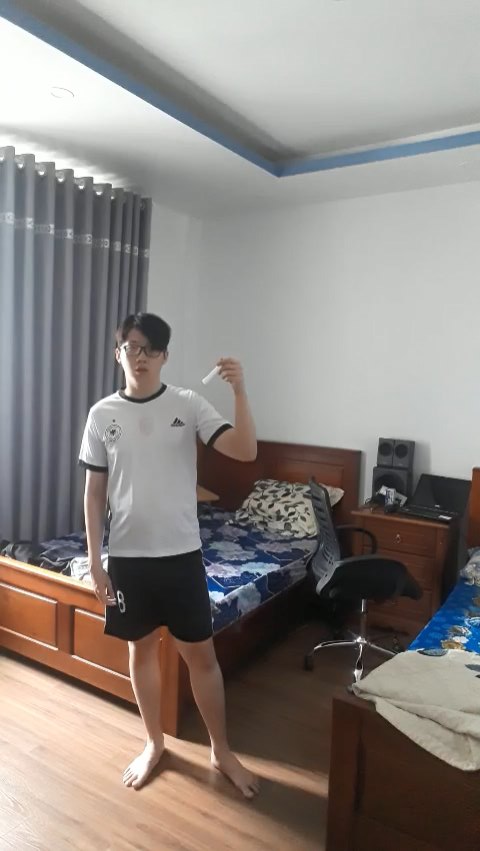cigarette: (199, 362, 221, 390)
person: (49, 298, 288, 802)
